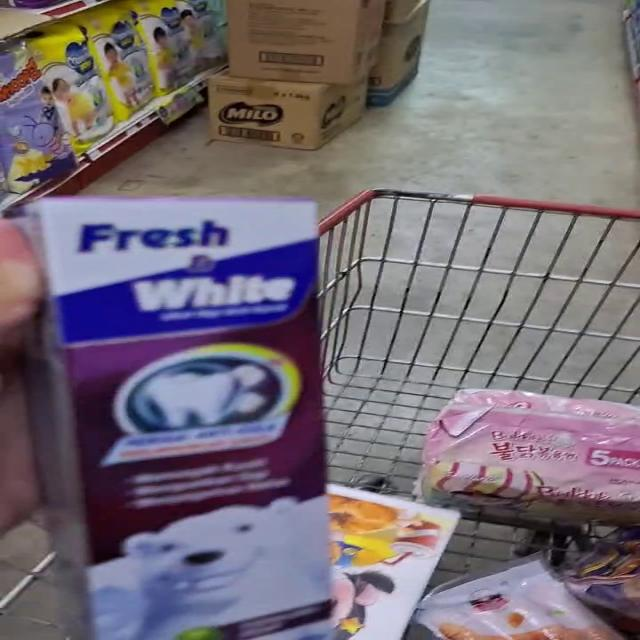Tisu: (336, 484, 452, 640)
Ubat Gigi: (23, 181, 336, 640)
